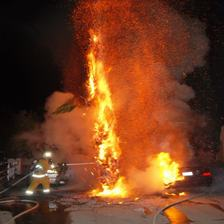fire: (62, 26, 198, 208)
